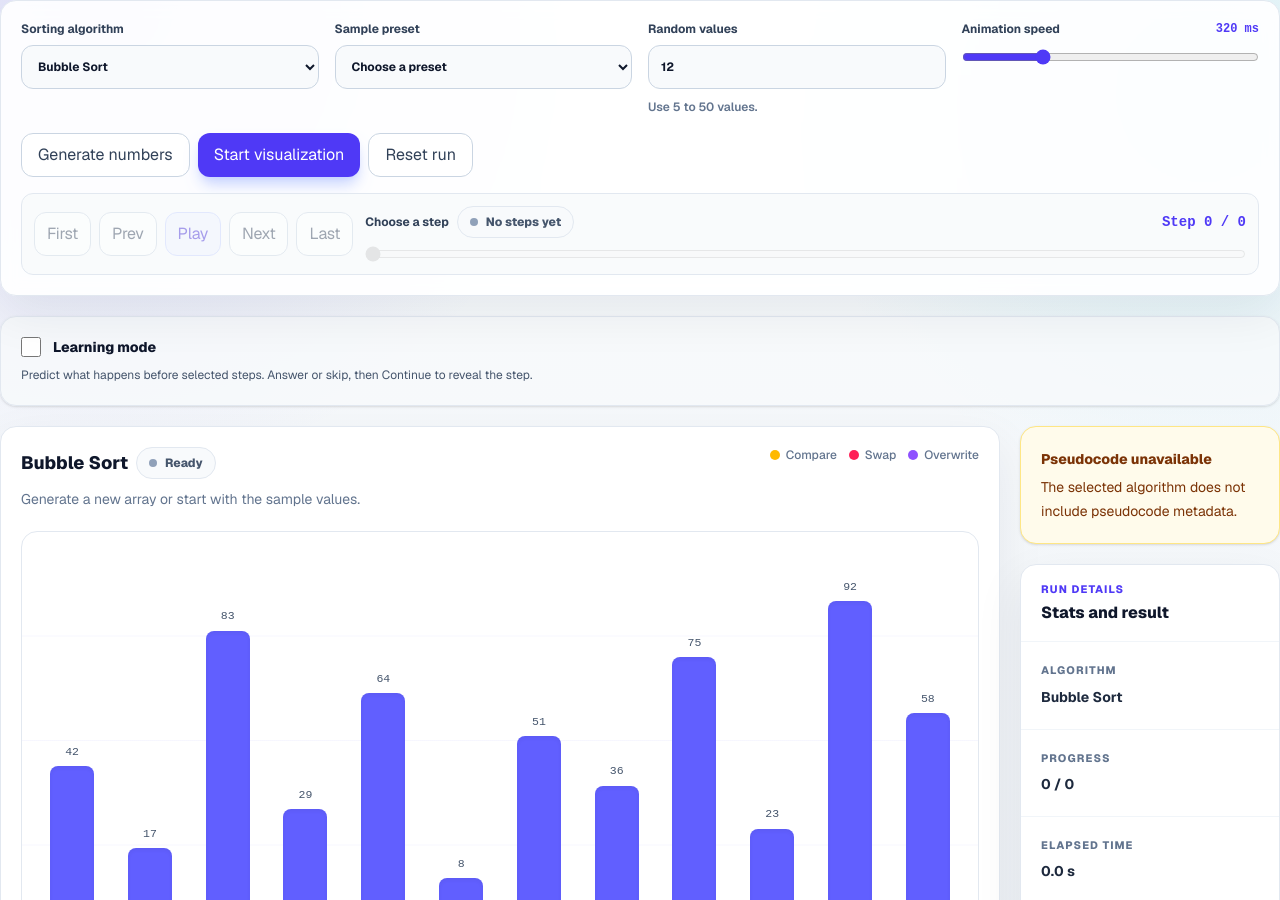
Test: visualizer learning integration › disables learning mode for unsupported algorithm selections
The width and height of the screenshot is (1280, 900).
Select "Quick Sort" in the dropdown labelled "Sorting algorithm": [170, 67] box [21,45,318,89]
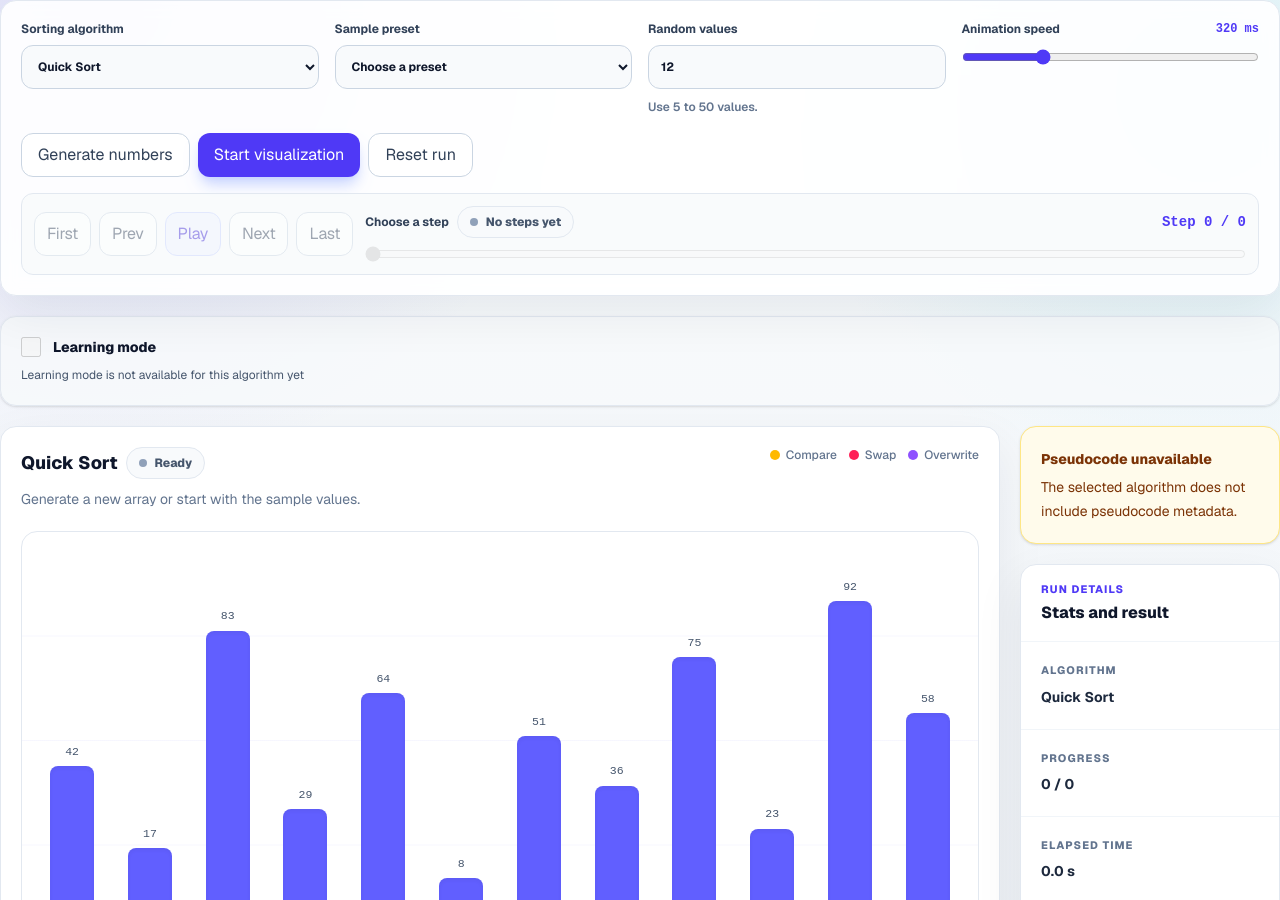
Now the checkbox labelled "Learning mode" is disabled, box [21,337,41,357]
Now the text "Learning mode is not available for this algorithm yet" is shown, box [21,367,304,383]
